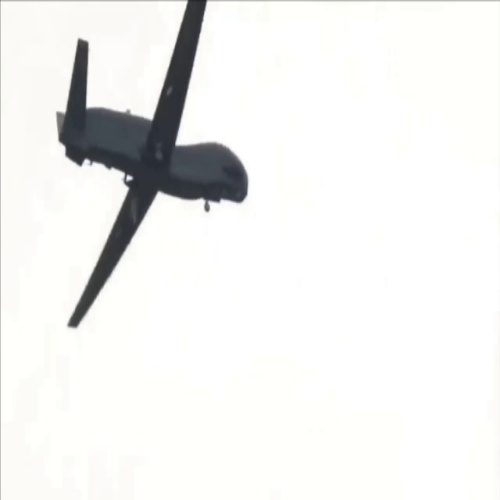uav: (48, 1, 253, 327)
